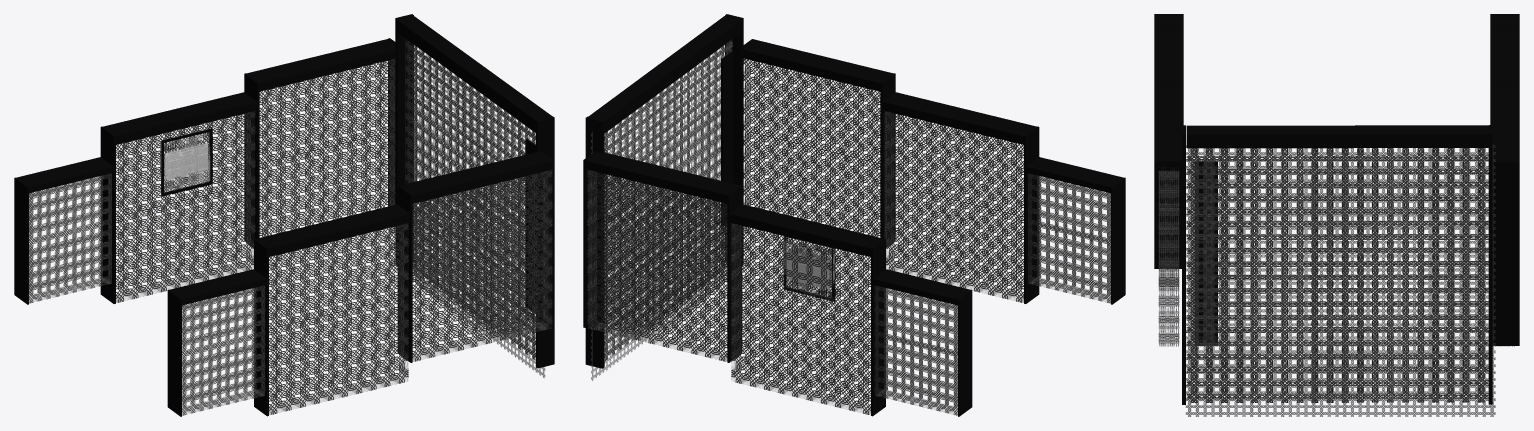
The model's file is floor.glb.
3 renders of one model, left to right at view 1: azimuth 30°, elevation 25°; view 2: azimuth 150°, elevation 25°; view 3: azimuth 270°, elevation 25°, orthographic. The views are drawn at different scales.
Parts seen in each view (by area): view 1: Cube.014, Cube.022, Cube, Cube.013, Cube.003, Cube.017, Cube.009, Plan, Cube.006, Cube.010, Cube.016, Cube.020 (+14 smaller); view 2: Cube.013, Cube.022, Cube, Cube.014, Cube.003, Cube.009, Cube.017, Plan, Cube.006, Cube.002, Cube.011, Cube.020 (+14 smaller); view 3: Plan, Cube.003, Cube.006, Cube.005, Cube.014, Cube.015, Cube.016, Cube.023, Cube.011, Cube.002, Cube.020, Cube.004 (+3 smaller).
Part boxes in pixels (left/top/right/bottom): Cube.014: left=412, top=170, right=552, bottom=361; Cube.022: left=269, top=223, right=408, bottom=414; Cube: left=116, top=111, right=255, bottom=302; Cube.013: left=259, top=58, right=395, bottom=236; Cube.003: left=405, top=40, right=535, bottom=360; Cube.017: left=182, top=285, right=265, bottom=415; Cube.009: left=29, top=173, right=111, bottom=303; Plan: left=408, top=42, right=545, bottom=378; Cube.006: left=397, top=16, right=551, bottom=132; Cube.010: left=536, top=116, right=554, bottom=368; Cube.016: left=400, top=151, right=554, bottom=203; Cube.020: left=256, top=204, right=410, bottom=256; Cube.013: left=587, top=170, right=727, bottom=361; Cube.022: left=884, top=111, right=1023, bottom=302; Cube: left=731, top=223, right=870, bottom=415; Cube.014: left=743, top=58, right=880, bottom=236; Cube.003: left=604, top=40, right=732, bottom=360; Cube.009: left=874, top=285, right=957, bottom=415; Cube.017: left=1028, top=173, right=1110, bottom=303; Plan: left=591, top=40, right=732, bottom=380; Cube.006: left=588, top=16, right=741, bottom=132; Cube.002: left=729, top=204, right=883, bottom=256; Cube.011: left=585, top=152, right=739, bottom=203; Cube.020: left=882, top=92, right=1036, bottom=144; Plan: left=1185, top=143, right=1495, bottom=416; Cube.003: left=1186, top=148, right=1488, bottom=402; Cube.006: left=1186, top=125, right=1488, bottom=148; Cube.005: left=1492, top=161, right=1519, bottom=345; Cube.014: left=1158, top=167, right=1179, bottom=346; Cube.015: left=1154, top=84, right=1183, bottom=268; Cube.016: left=1154, top=85, right=1183, bottom=170; Cube.023: left=1194, top=161, right=1217, bottom=345; Cube.011: left=1490, top=85, right=1519, bottom=161; Cube.002: left=1490, top=28, right=1519, bottom=84; Cube.020: left=1154, top=28, right=1183, bottom=84; Cube.004: left=1488, top=125, right=1492, bottom=404.
Size of the model in its own units: 14.25 by 9.21 by 10.64.
20 materials, 3 textured.
